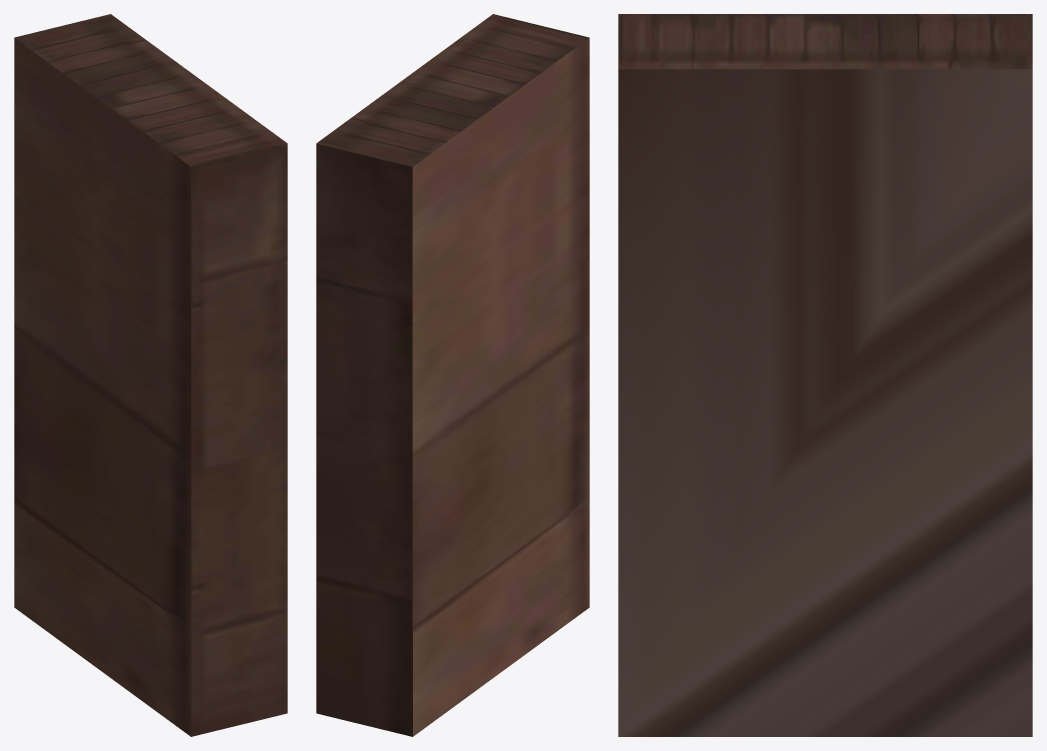
File: woodBlock2 (42).fbx
The picture shows the model from 3 angles, left to right: view 1: azimuth 30°, elevation 25°; view 2: azimuth 150°, elevation 25°; view 3: azimuth 270°, elevation 25°; orthographic projection. The views are drawn at different scales.
Parts seen in each view (by area): view 1: woodBlock2 (42); view 2: woodBlock2 (42); view 3: woodBlock2 (42).
Boxes of the visible parts, <box> form: woodBlock2 (42): <box>14,14,287,736</box>; woodBlock2 (42): <box>316,14,589,736</box>; woodBlock2 (42): <box>618,14,1032,736</box>.
Size of the model in its own units: 1.78 by 10.05 by 5.66.
